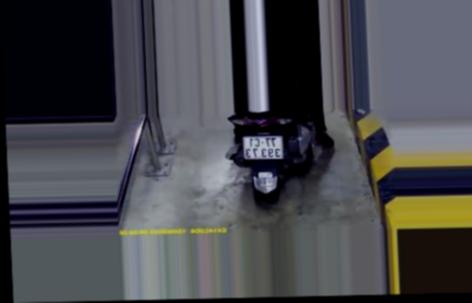License_Plate: (239, 130, 287, 164)
